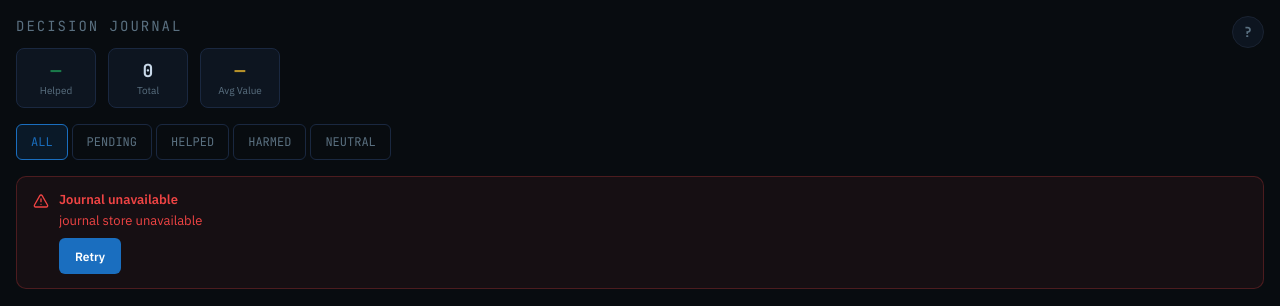
Test case: Journal view async data › shows an error state on failure and refetches on retry
expect the text "journal store unavailable" is shown: met, box [59, 212, 202, 229]
Step 1. Click the button "Retry" → (90, 256), box [59, 238, 121, 274]
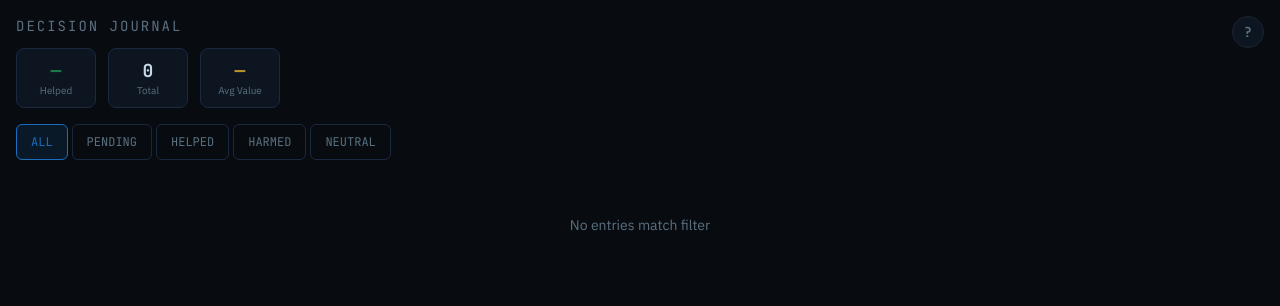
expect the text "journal store unavailable" is gone: met
